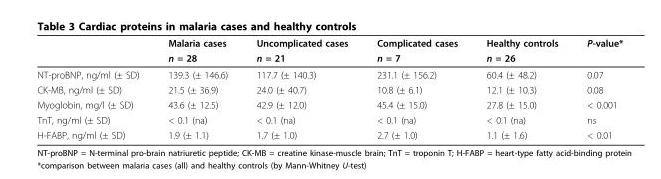table: (36, 36, 622, 140)
table column: (241, 36, 361, 140), (36, 36, 153, 140), (361, 36, 471, 140), (471, 36, 572, 140), (153, 36, 241, 140), (572, 36, 622, 140)
table column header: (36, 36, 622, 66)
table row: (36, 50, 622, 66), (36, 96, 622, 112), (36, 66, 622, 81), (36, 81, 622, 96), (36, 112, 622, 127), (36, 36, 622, 50), (36, 127, 622, 140)
table spanning cell: (241, 36, 361, 66), (361, 36, 471, 66), (471, 36, 572, 66), (153, 36, 241, 66), (572, 36, 622, 66)
